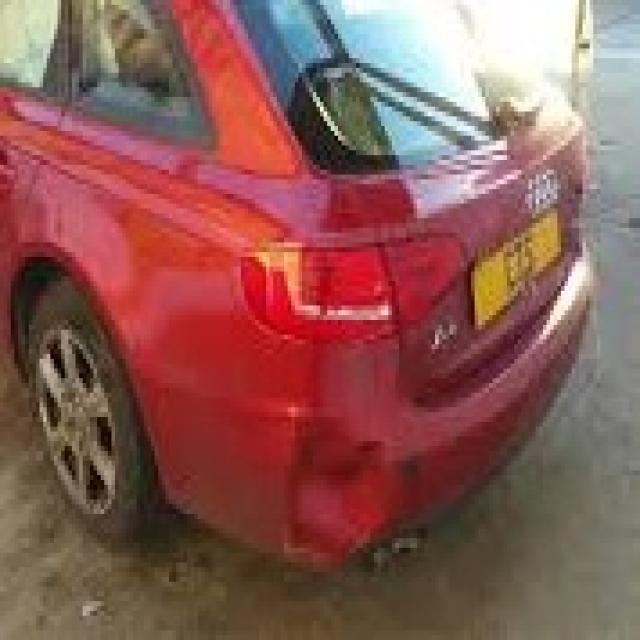minor: (262, 212, 464, 566)
